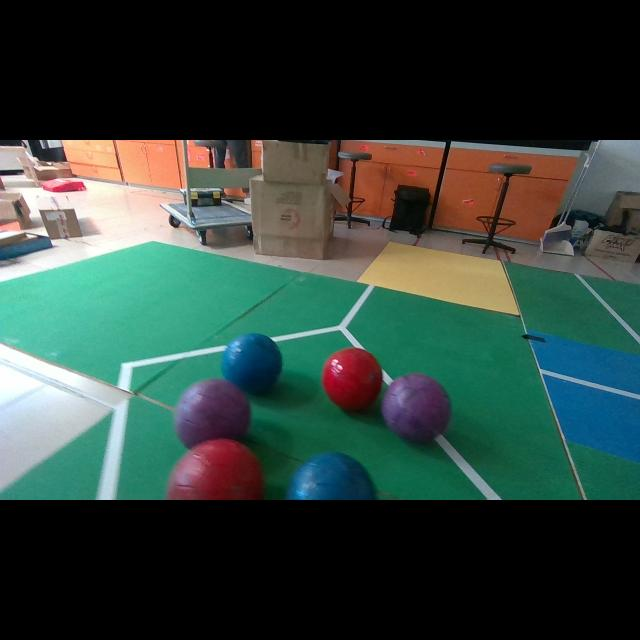B: (285, 452, 376, 500), (221, 334, 282, 394)
P: (175, 379, 250, 449), (381, 372, 451, 442)
R: (166, 439, 264, 500), (322, 348, 381, 410)
